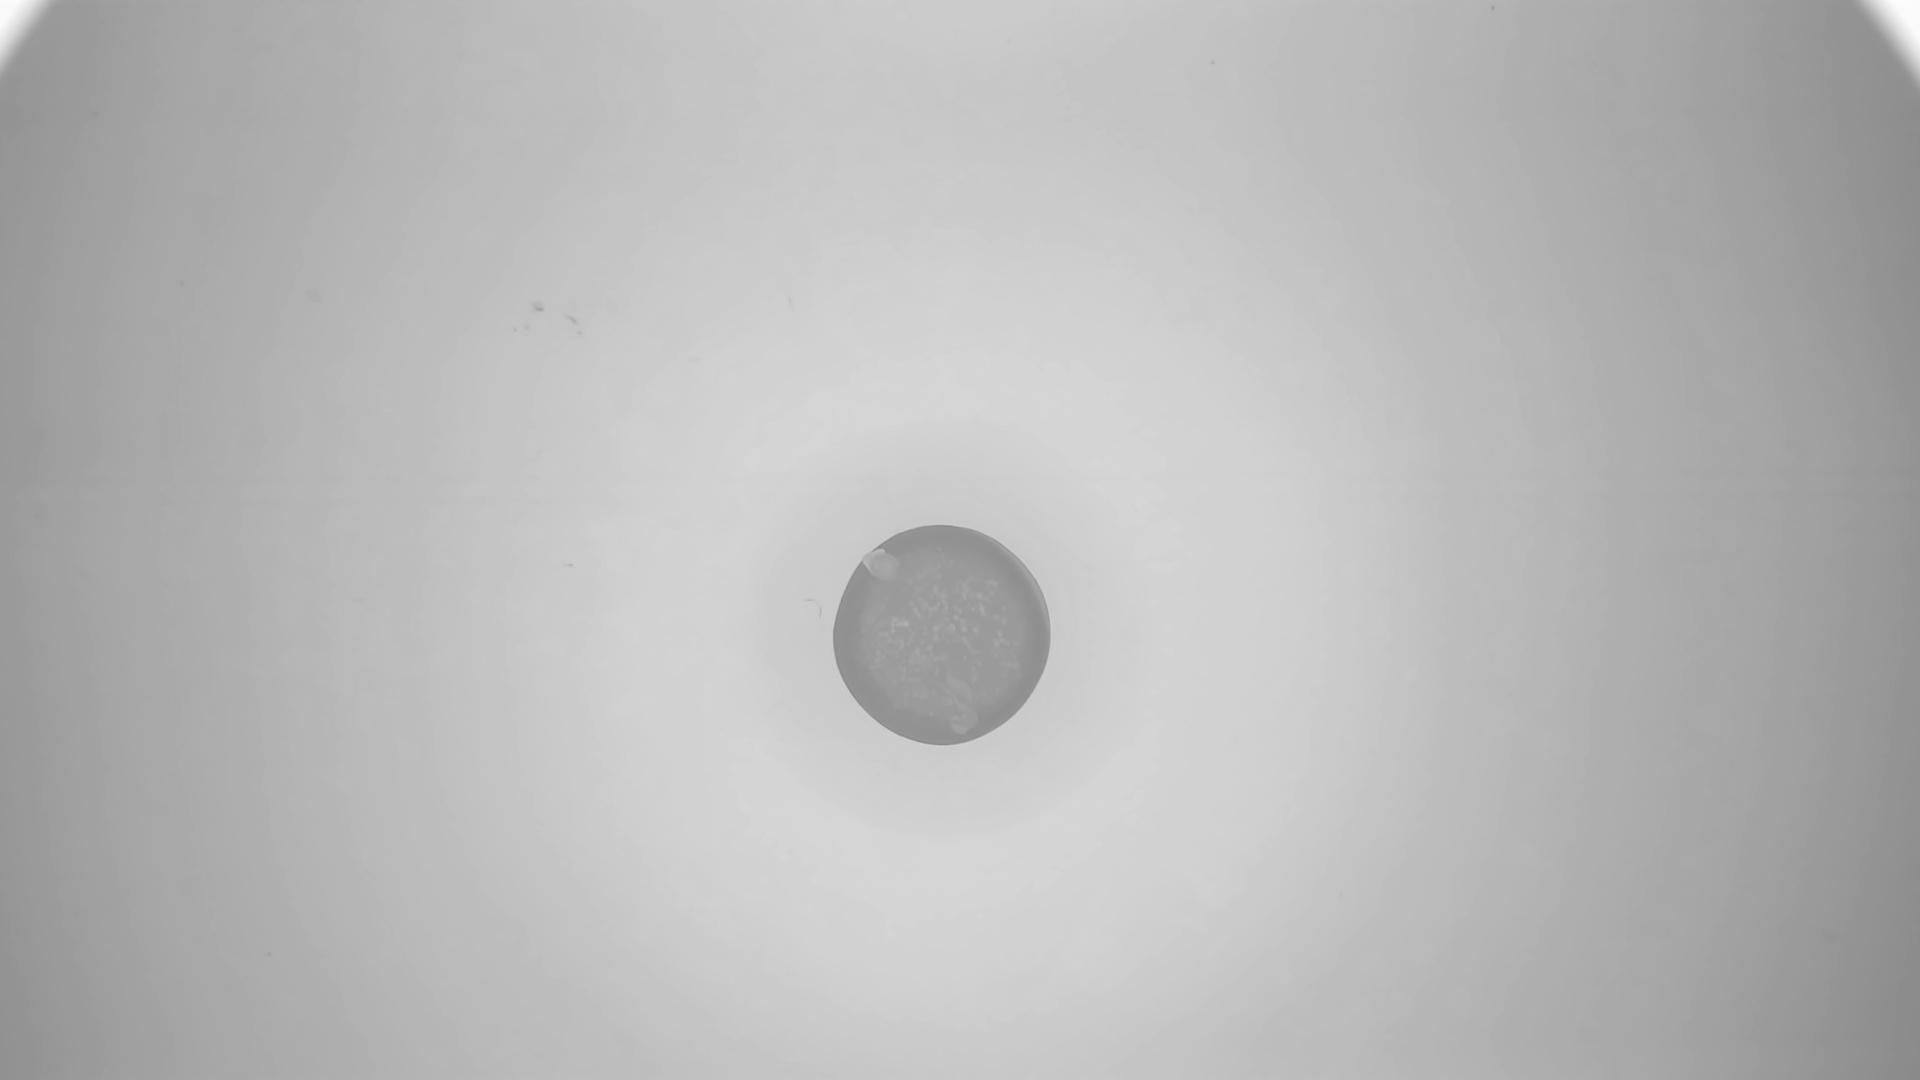abnormal: (833, 524, 1054, 752)
